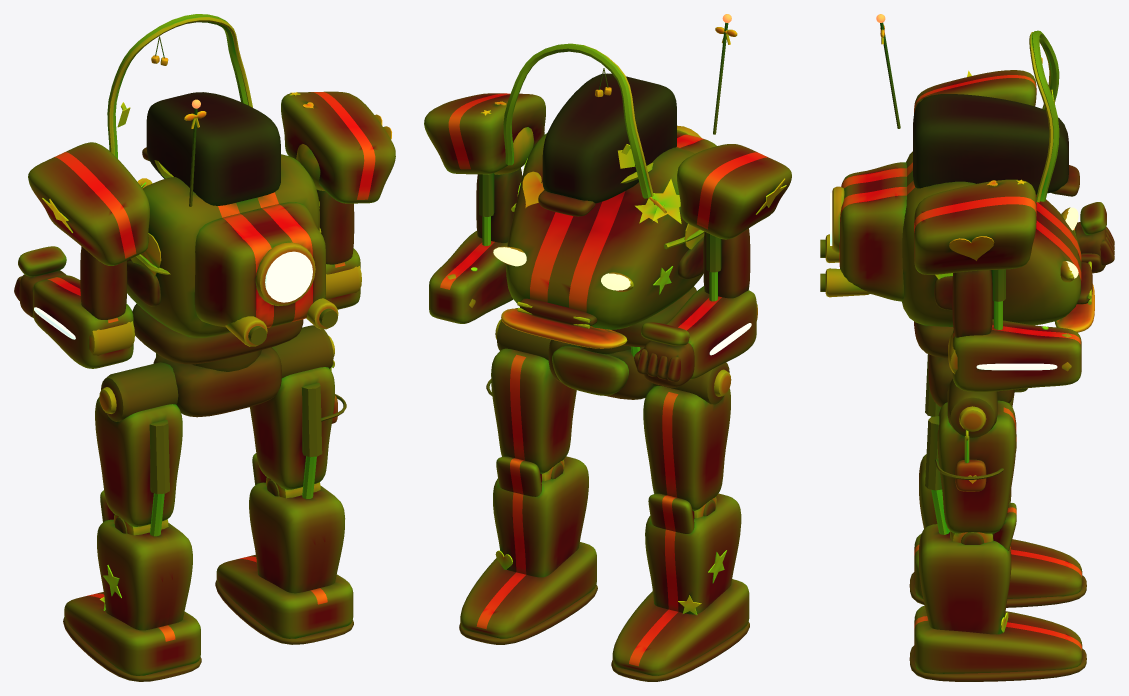
The model's file is titan_atlas.glb.
The picture shows the model from 3 angles, left to right: view 1: azimuth 30°, elevation 25°; view 2: azimuth 150°, elevation 25°; view 3: azimuth 270°, elevation 25°; orthographic projection.
Parts seen in each view (by area): view 1: LegLMesh, LegRMesh, ArmLMesh, Torso, Engine, ArmRMesh, Canopy, Pelvis, Cockpit, Core; view 2: LegLMesh, LegRMesh, Torso, ArmLMesh, ArmRMesh, Canopy, Cockpit, Pelvis, Engine, Eye; view 3: LegRMesh, ArmRMesh, Torso, Canopy, Engine, LegLMesh, ArmLMesh, Cockpit, Pelvis.
Part boxes in pixels (x1,y1,x2,y2): LegLMesh: (63,362,201,681); LegRMesh: (215,325,353,644); ArmLMesh: (14,142,149,368); Torso: (127,154,321,364); Engine: (184,99,338,346); ArmRMesh: (281,91,395,309); Canopy: (146,92,280,205); Pelvis: (153,347,281,417); Cockpit: (107,14,252,161); Core: (265,251,312,302); LegLMesh: (611,362,749,681); LegRMesh: (459,308,597,644); Torso: (493,133,704,348); ArmLMesh: (634,144,791,387); ArmRMesh: (424,93,545,323); Canopy: (542,73,676,203); Cockpit: (503,43,653,216); Pelvis: (548,339,653,399); Engine: (677,14,737,153); Eye: (493,247,630,290); LegRMesh: (909,379,1086,681); ArmRMesh: (914,179,1081,391); Torso: (902,151,1094,358); Canopy: (913,94,1068,194); Engine: (820,14,906,301); LegLMesh: (909,354,1086,607); ArmLMesh: (914,70,1114,273); Cockpit: (1029,30,1079,202); Pelvis: (928,354,1027,406).
Bounding box in the file's own units: 4.19 × 7.1 × 3.21.
